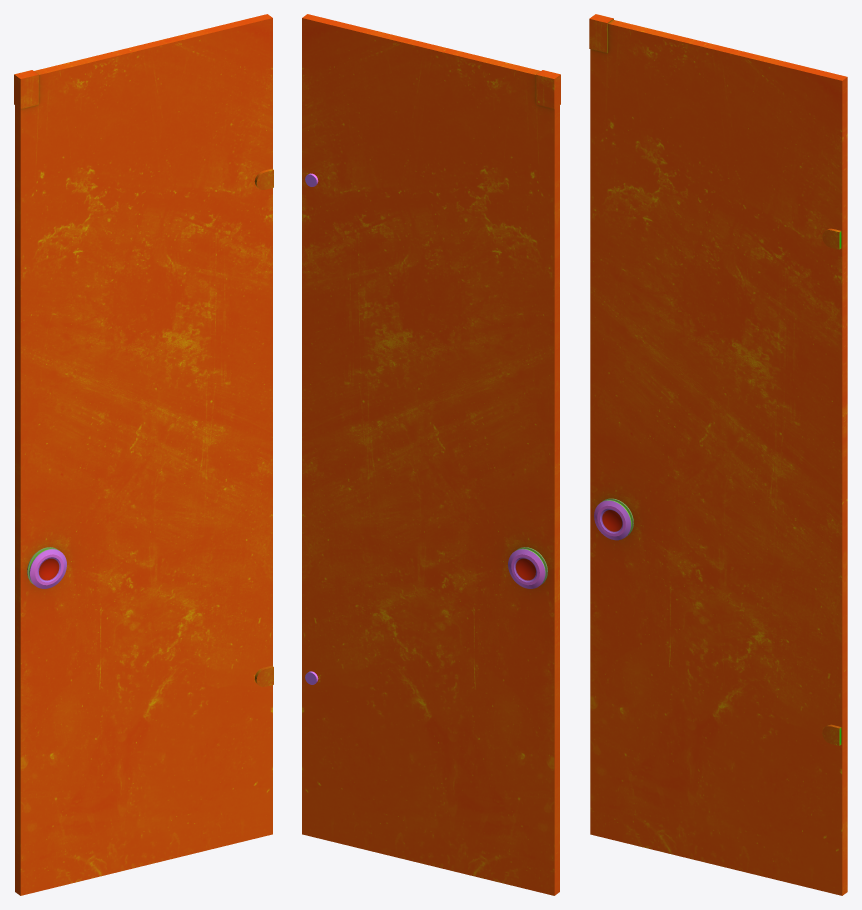
File: SM_Bathroom_cabin_door.FBX
3 renders of one model, left to right at view 1: azimuth 30°, elevation 25°; view 2: azimuth 150°, elevation 25°; view 3: azimuth 330°, elevation 25°, orthographic.
Visible parts, largest first — view 1: SM_Bathroom_cabin_door; view 2: SM_Bathroom_cabin_door; view 3: SM_Bathroom_cabin_door.
Part boxes in pixels (bbox=[...]): SM_Bathroom_cabin_door: bbox=[14, 14, 273, 895]; SM_Bathroom_cabin_door: bbox=[302, 14, 560, 895]; SM_Bathroom_cabin_door: bbox=[589, 14, 847, 895].
Size of the model in its own units: 80.43 by 248 by 7.19.
1 material, 1 textured.
